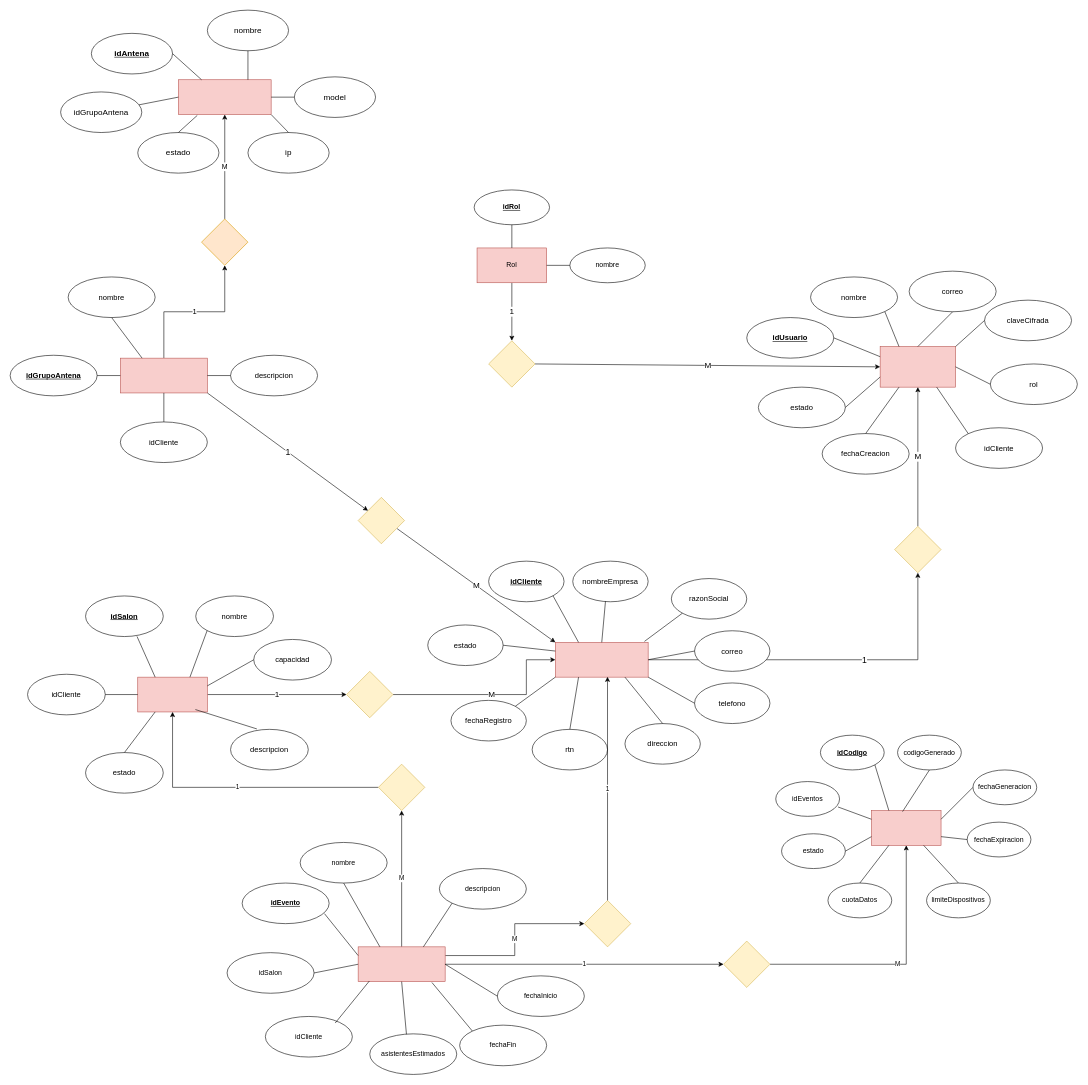
Image size: 1088x1085. Some labels were removed from this diagram. Each missing label, with the centre of its shape:
Antena: point 224,97
Cliente: point 601,659
codigosWifi: point 906,827
Evento: point 401,964
grupoAntena: point 163,375
Salon: point 172,694
Usuario: point 918,366
